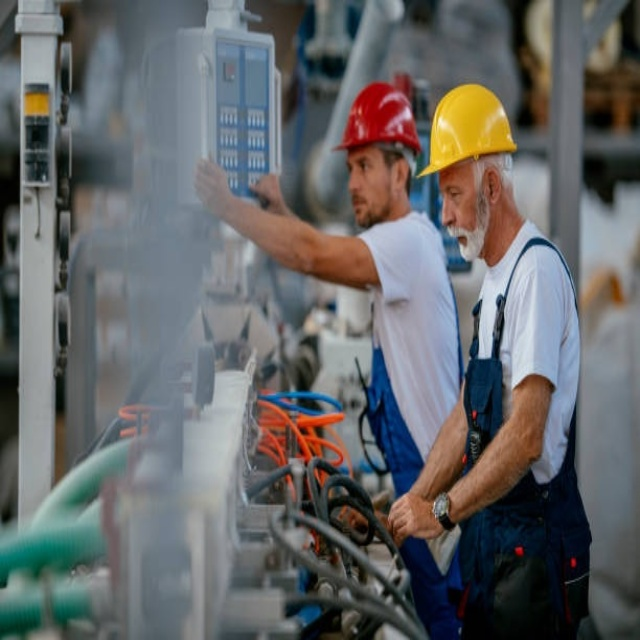Sin_gafas: (438, 176, 475, 212), (345, 149, 379, 180)
Sin_guantes: (391, 483, 438, 543), (195, 157, 231, 216), (249, 165, 284, 210)
Sin_mascara: (447, 221, 477, 260)
